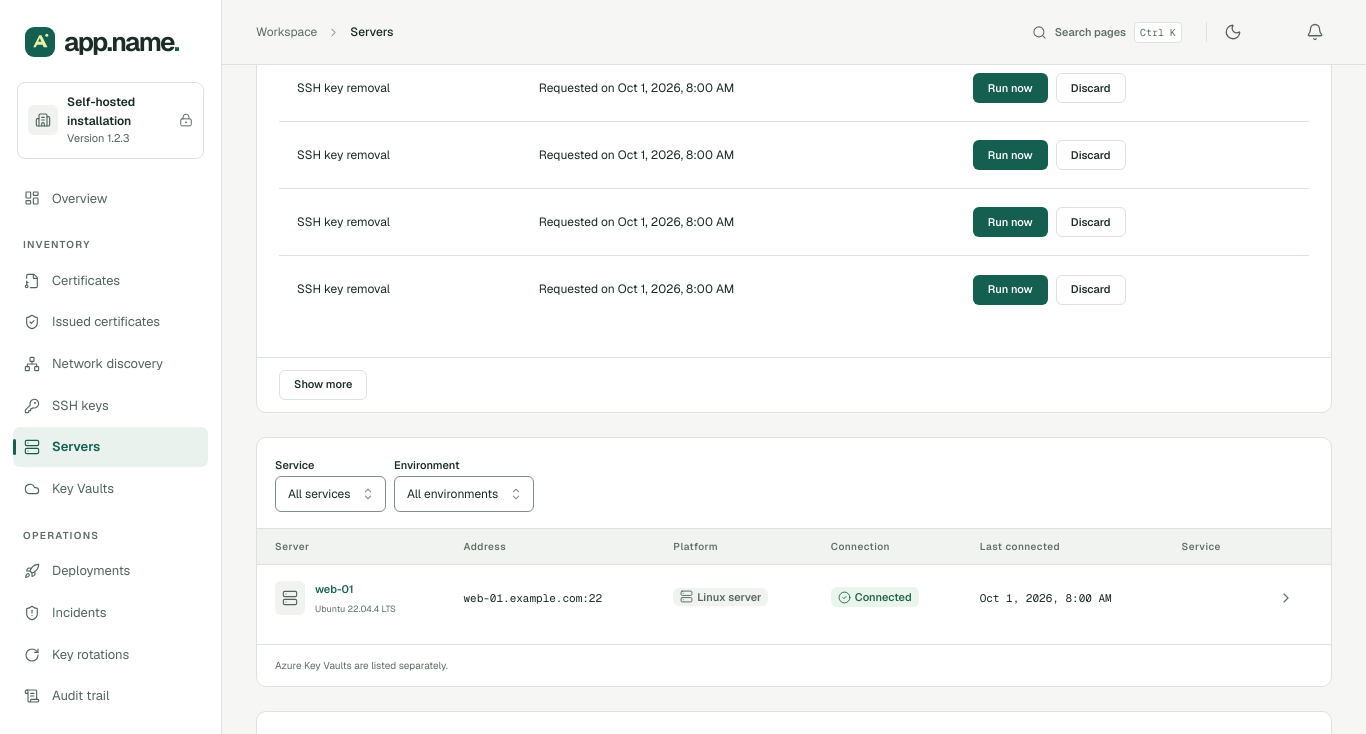
Test: TargetsPage › shows every held job: "Show more" reads the next page and appends it, then goes away (AUD-25 d)
(page scrolled)
Click the button "Show more": (323, 385) [279,370,367,400]
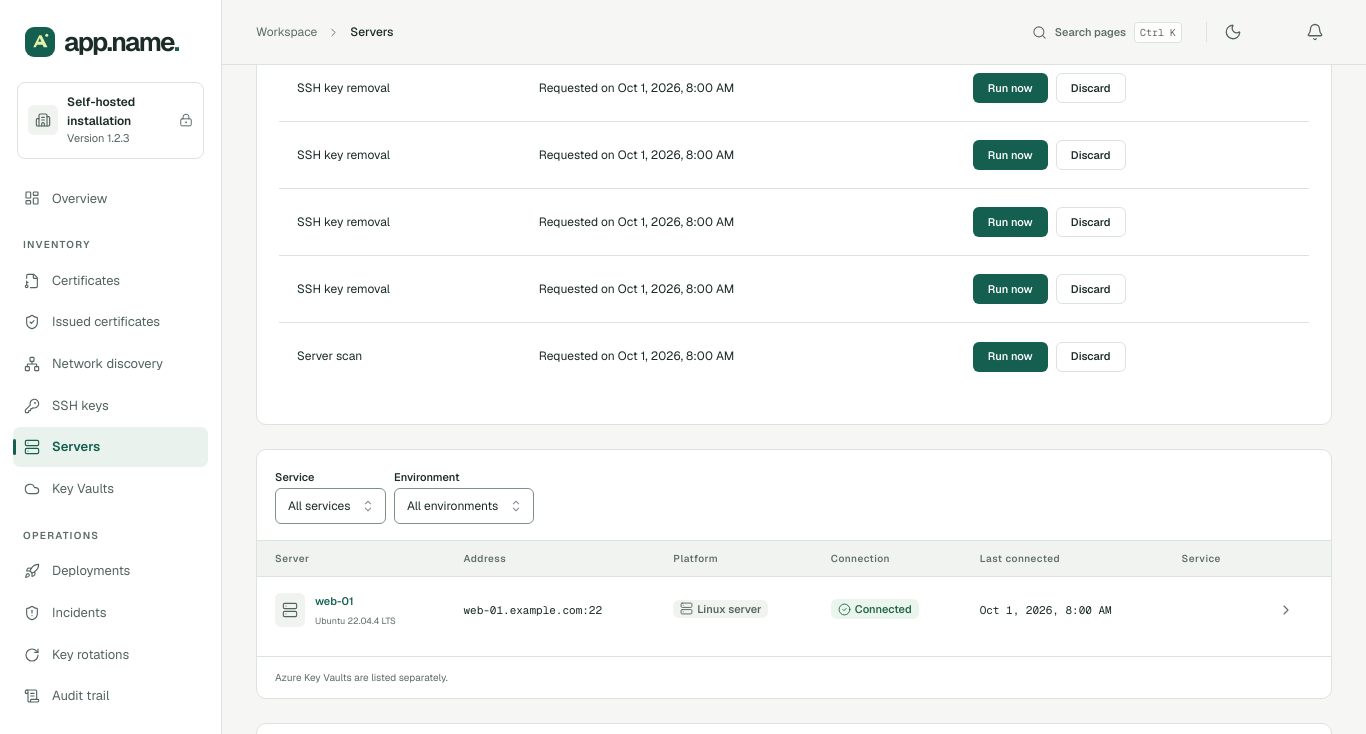
Result: the button with aria-label "Run now: Server scan" is shown at [973,342,1048,372]
Result: the button "Show more" is gone
